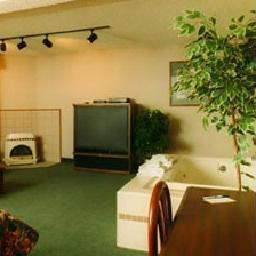Electrodomestico: (70, 103, 131, 174)
Matera: (183, 8, 250, 193)
